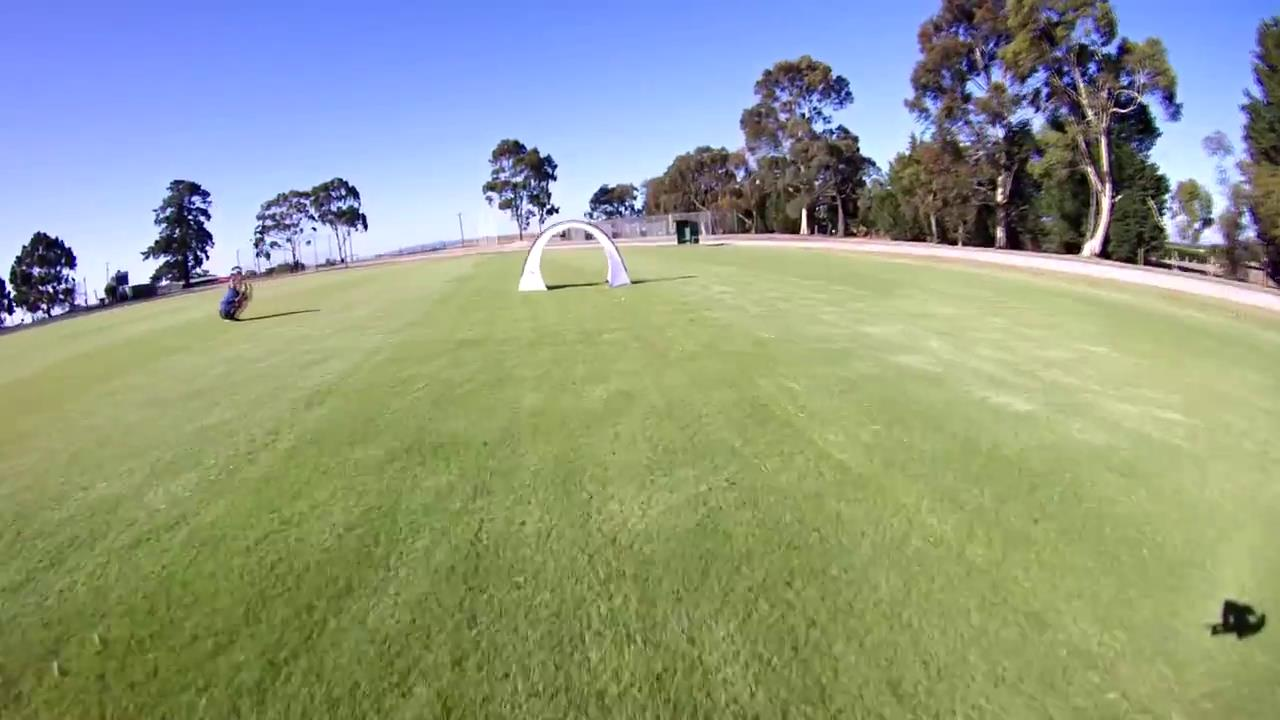gate: (516, 217, 636, 293)
